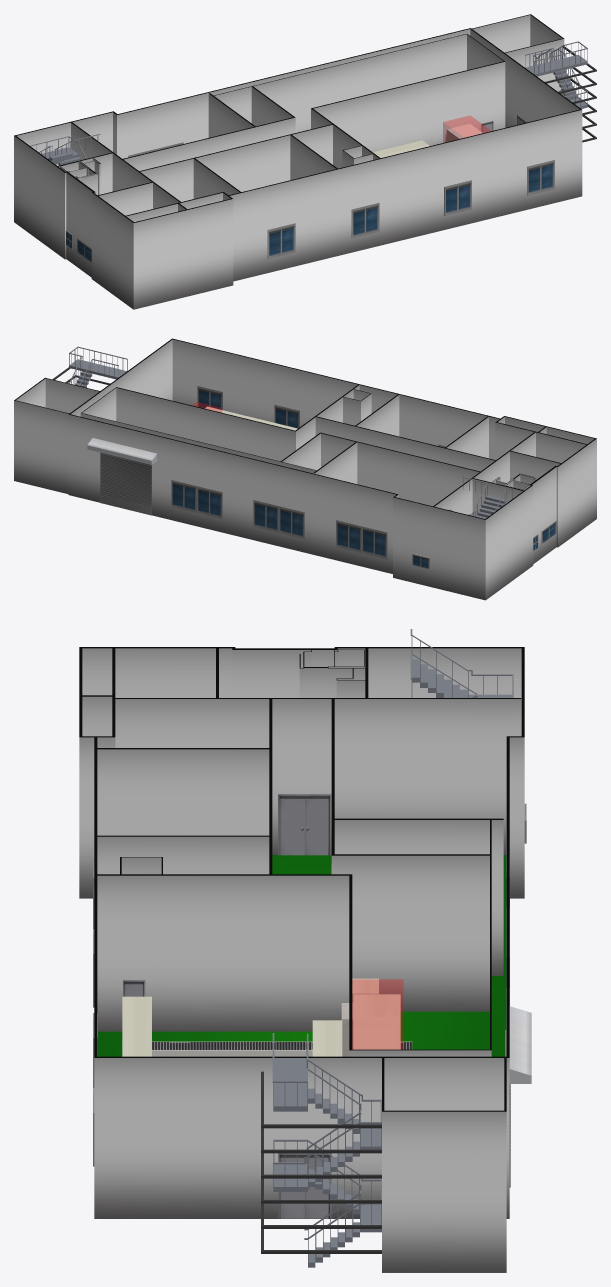
Rendered from soubrain_T1-15-2F.glb.
3 renders of one model, top to bottom at view 1: azimuth 30°, elevation 25°; view 2: azimuth 150°, elevation 25°; view 3: azimuth 270°, elevation 25°, orthographic. The views are drawn at different scales.
Parts seen in each view (by area): view 1: Box1718, T1-15-2F, Box1737, Box1896, equipment-T1-15-2F-002, Box2139, Box2130; view 2: Box1718, T1-15-2F, Line025, Box1737, Box1896; view 3: Box1718, T1-15-2F, Line571, Box1737, Box1896, equipment-T1-15-2F-001, Box2139, Box2138, Box2108, Box2109.
Part boxes in pixels (x1=…): Box1718: x1=14, y1=14, x2=582, y2=309; T1-15-2F: x1=66, y1=46, x2=596, y2=262; Box1737: x1=41, y1=55, x2=587, y2=165; Box1896: x1=30, y1=41, x2=587, y2=165; equipment-T1-15-2F-002: x1=443, y1=115, x2=490, y2=142; Box2139: x1=373, y1=140, x2=429, y2=157; Box2130: x1=445, y1=124, x2=482, y2=142; Box1718: x1=14, y1=338, x2=596, y2=600; T1-15-2F: x1=52, y1=367, x2=556, y2=569; Line025: x1=100, y1=452, x2=151, y2=515; Box1737: x1=69, y1=359, x2=506, y2=518; Box1896: x1=69, y1=346, x2=512, y2=516; Box1718: x1=79, y1=647, x2=524, y2=1272; T1-15-2F: x1=93, y1=794, x2=531, y2=1253; Line571: x1=98, y1=855, x2=506, y2=1056; Box1737: x1=273, y1=659, x2=512, y2=1267; Box1896: x1=272, y1=629, x2=513, y2=1262; equipment-T1-15-2F-001: x1=352, y1=979, x2=403, y2=1049; Box2139: x1=122, y1=996, x2=342, y2=1056; Box2138: x1=152, y1=1041, x2=412, y2=1056; Box2108: x1=353, y1=1017, x2=400, y2=1049; Box2109: x1=353, y1=994, x2=400, y2=1016.
Size of the model in its own units: 37.13 by 6.93 by 15.26.
Materials: 24 (21 with a texture image).
